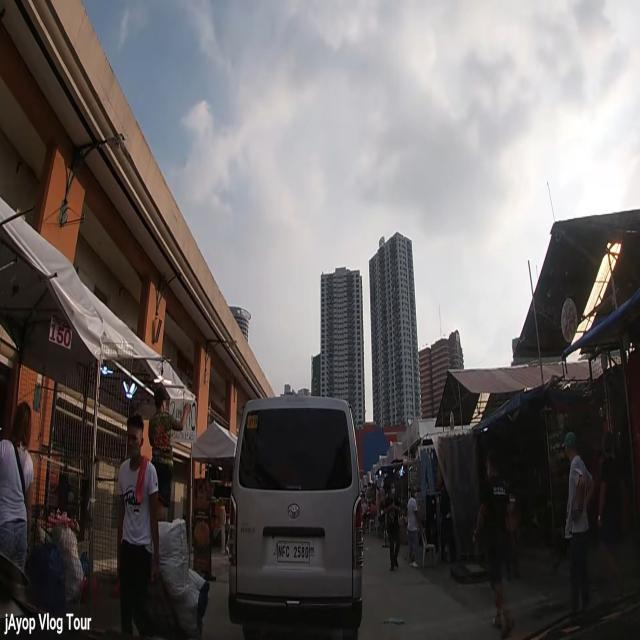car: (231, 395, 365, 640)
